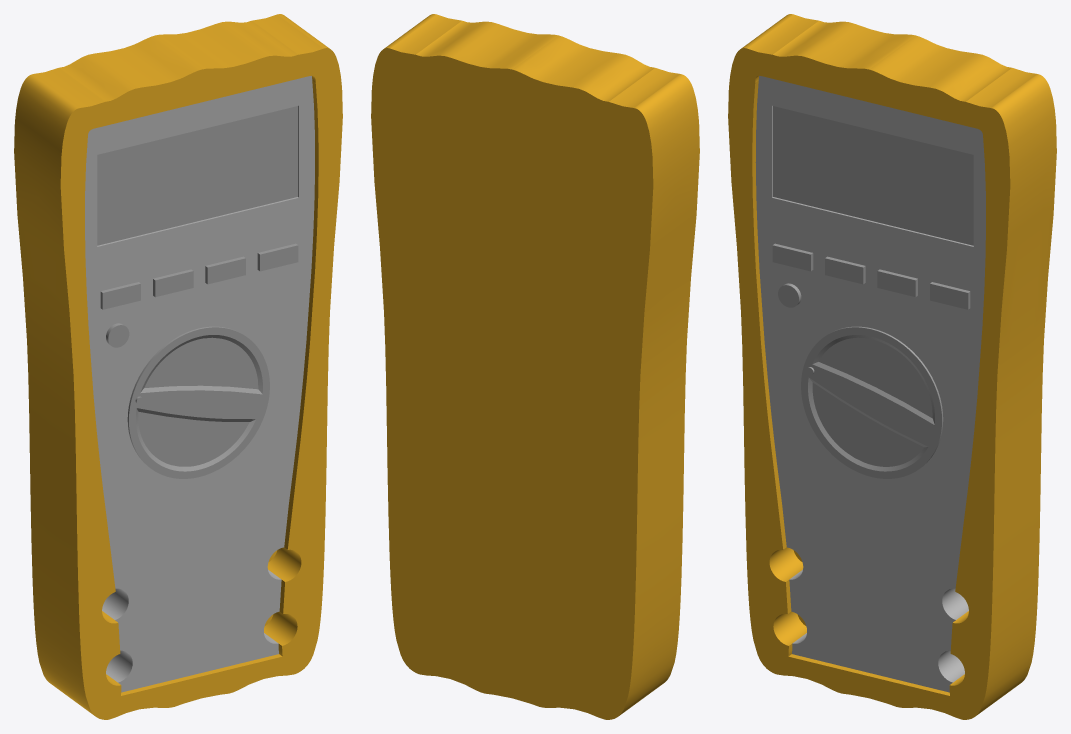
Rendered from multimetro.fbx.
3 renders of one model, left to right at view 1: azimuth 30°, elevation 25°; view 2: azimuth 150°, elevation 25°; view 3: azimuth 330°, elevation 25°, orthographic.
Visible parts, largest first — view 1: Carcasa, Cara superior, Pantalla, Selector, Boton4, Boton3, Boton2, Boton1; view 2: Carcasa; view 3: Carcasa, Cara superior, Pantalla, Selector, Boton1, Boton2, Boton3, Boton4.
Boxes of the visible parts, x1,y1,x2,y2 form: Carcasa: (14,14,342,719); Cara superior: (85,76,314,692); Pantalla: (97,106,297,245); Selector: (127,326,269,478); Boton4: (257,243,298,271); Boton3: (205,256,245,284); Boton2: (153,269,193,297); Boton1: (100,282,140,309); Carcasa: (371,14,699,719); Carcasa: (728,14,1056,719); Cara superior: (755,76,985,692); Pantalla: (773,106,973,245); Selector: (801,326,943,478); Boton1: (772,243,813,271); Boton2: (825,256,865,284); Boton3: (877,269,917,297); Boton4: (930,282,970,309).
Bounding box in the file's own units: 14 × 29.89 × 4.
